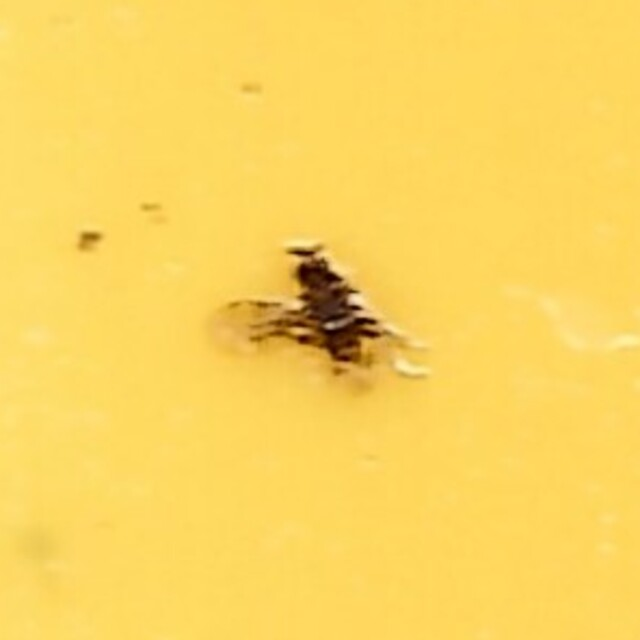Brachycera: (216, 244, 424, 396)
